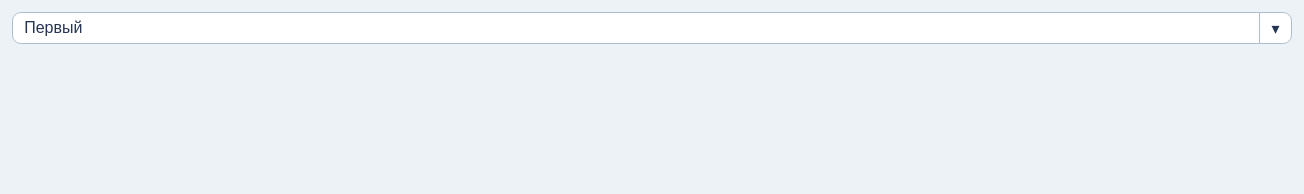
Scenario: keeps the selected state in a custom list without displaying a checkmark
This screenshot has width=1304, height=194.
Click the button with aria-label "Результат": click(53, 28) [12,12,1292,44]
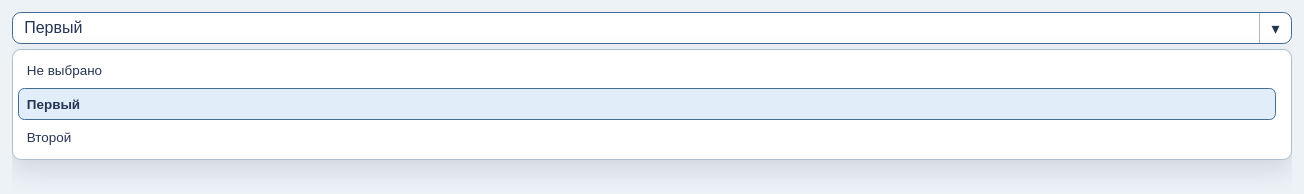
Check: the option "Первый" is shown, box [18,88,1276,120]
